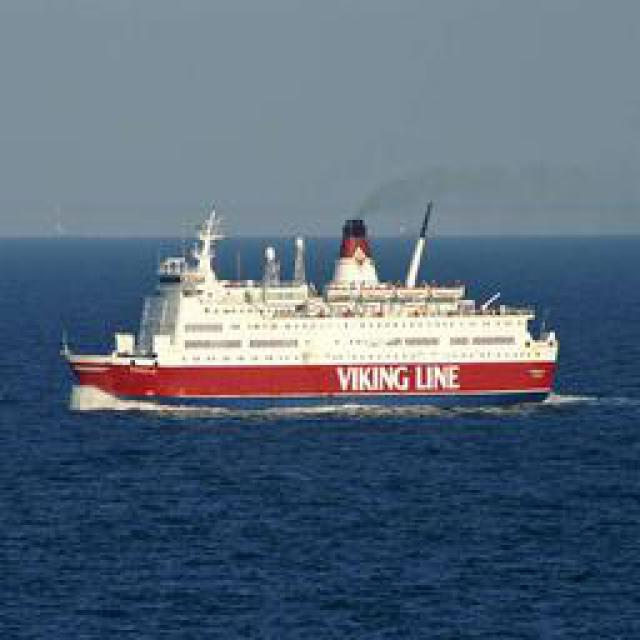Ship: (54, 202, 564, 412)
